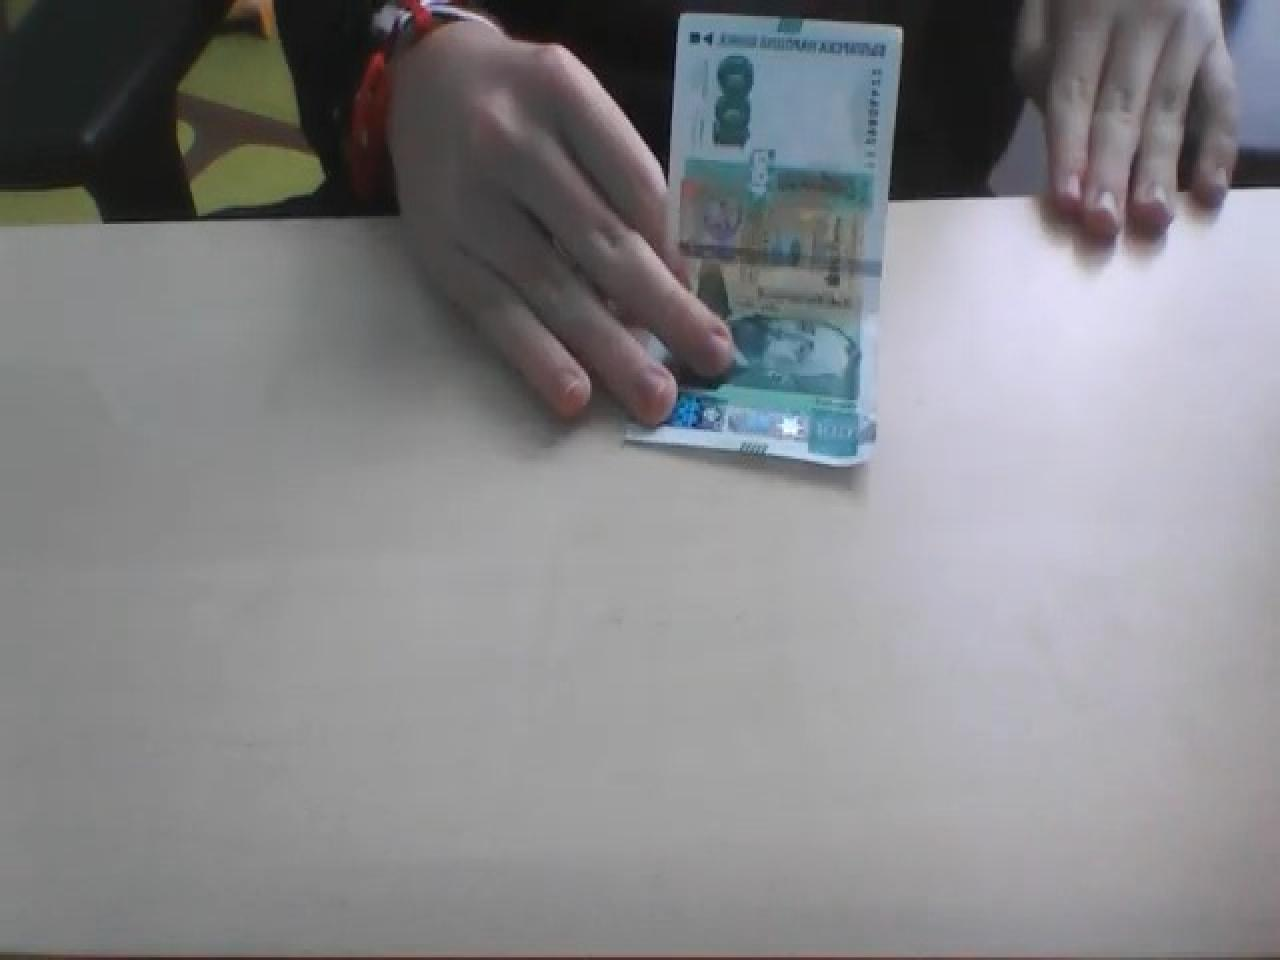100leva: (624, 13, 906, 470)
